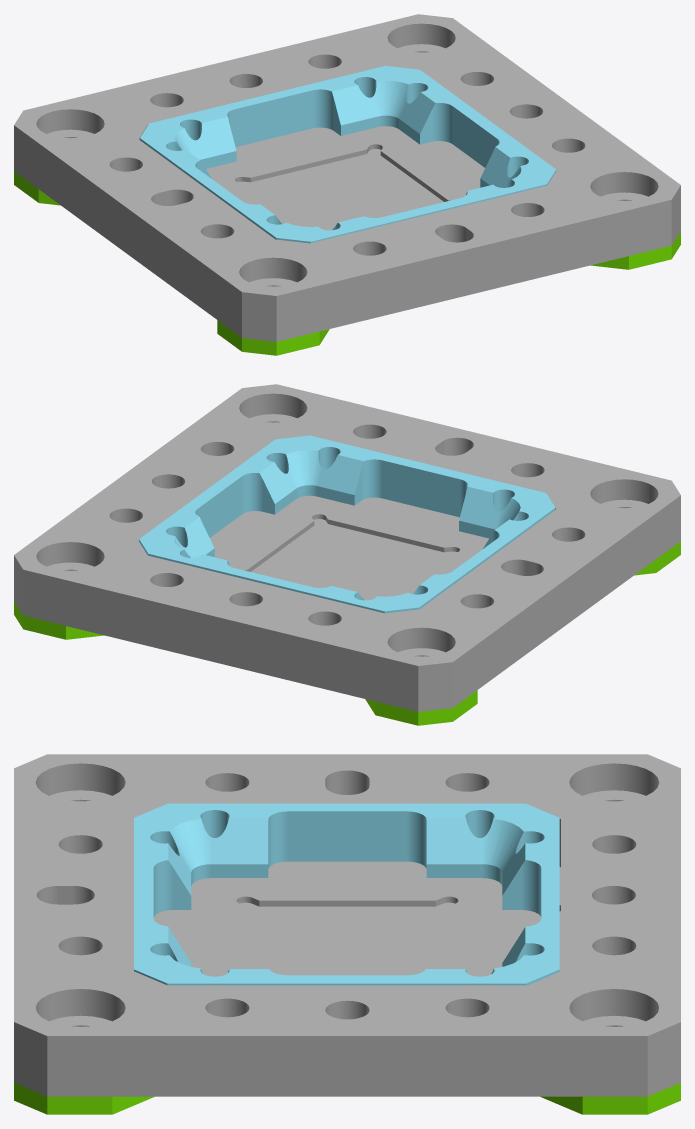
The model's file is socket-assembly.glb.
3 renders of one model, top to bottom at view 1: azimuth 30°, elevation 25°; view 2: azimuth 150°, elevation 25°; view 3: azimuth 270°, elevation 25°, orthographic. The views are drawn at different scales.
Visible parts, largest first — view 1: 零件1-1, 零件3-1, 零件2-1; view 2: 零件1-1, 零件3-1, 零件2-1; view 3: 零件1-1, 零件3-1, 零件2-1.
Boxes of the visible parts, box(x1,y1,x2,y2) form: 零件1-1: box(14, 14, 680, 341); 零件3-1: box(140, 66, 556, 243); 零件2-1: box(14, 171, 680, 355); 零件1-1: box(14, 384, 680, 711); 零件3-1: box(139, 435, 555, 613); 零件2-1: box(14, 541, 680, 725); 零件1-1: box(14, 754, 680, 1096); 零件3-1: box(134, 803, 559, 985); 零件2-1: box(14, 1082, 680, 1114).
Size of the model in its own units: 0.1 by 0.0134 by 0.1.
